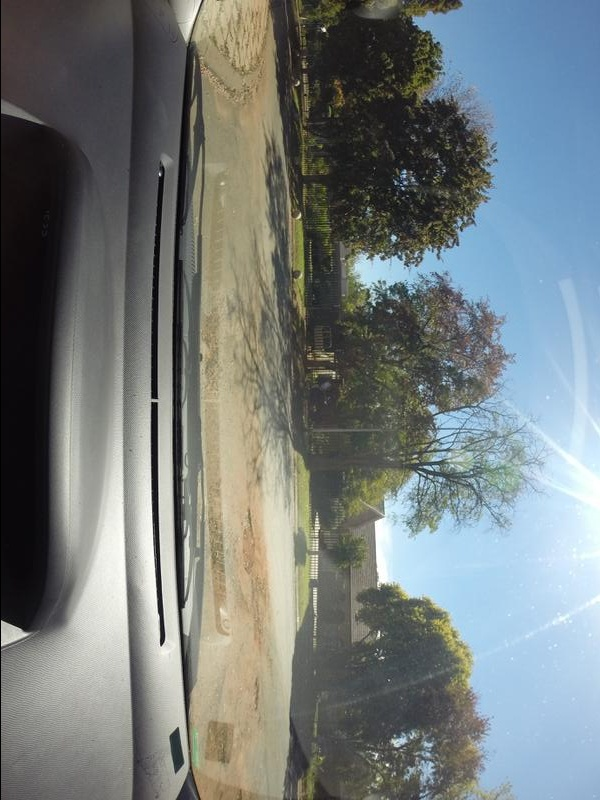pothole: (228, 510, 260, 587), (251, 677, 265, 715)
